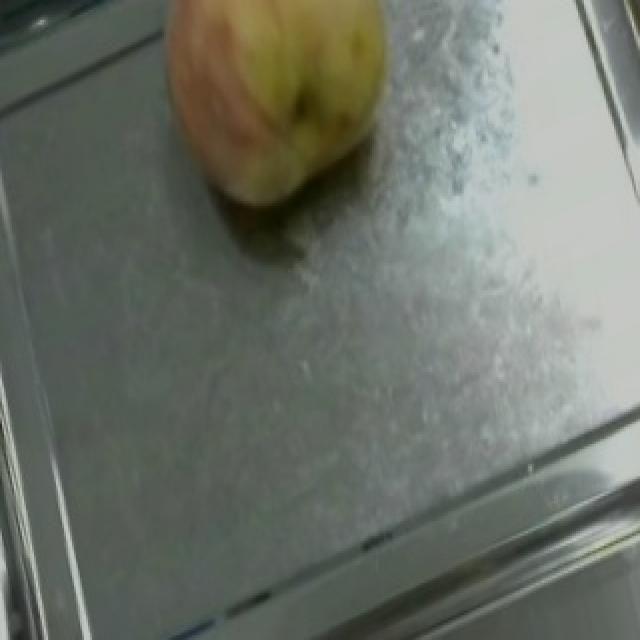Fruit: (118, 0, 434, 248)
